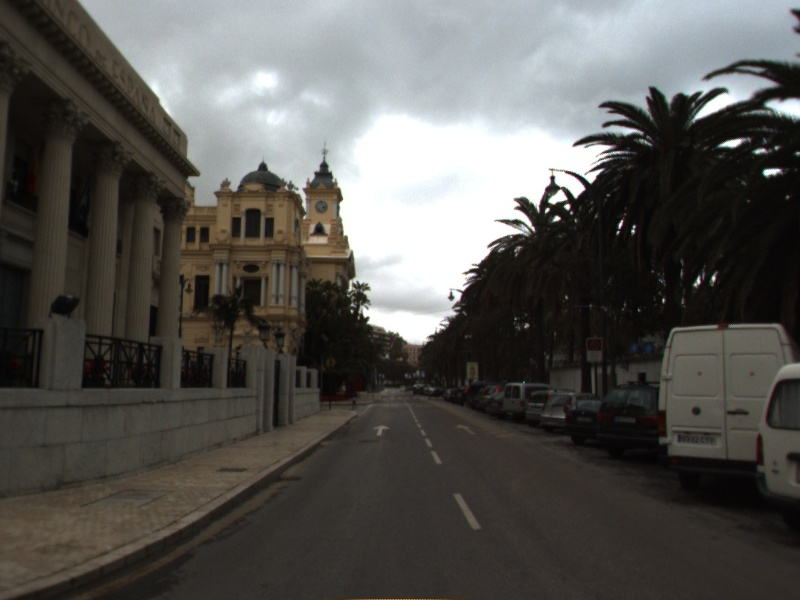STRAIGHT: (453, 422, 477, 437), (370, 423, 393, 438)
